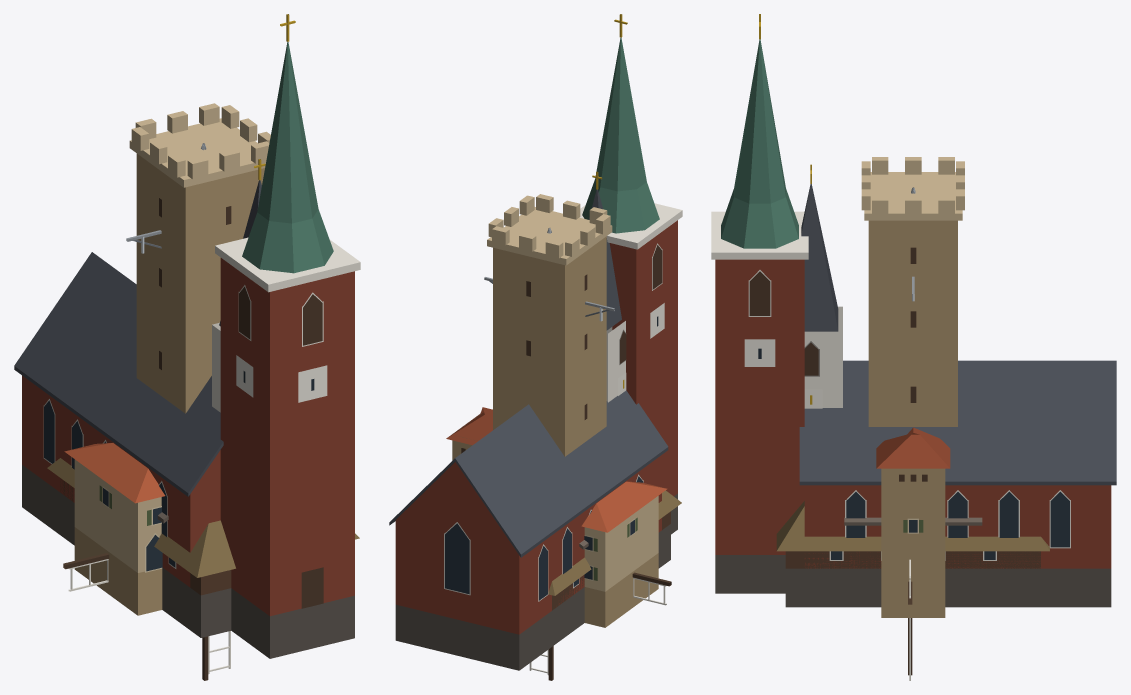
File: models.glb
The picture shows the model from 3 angles, left to right: view 1: azimuth 30°, elevation 25°; view 2: azimuth 150°, elevation 25°; view 3: azimuth 270°, elevation 25°; orthographic projection. The views are drawn at different scales.
Parts seen in each view (by area): view 1: nl_church, it_tower, it_farmhouse, nl_barn, ch_church, nl_mill_sails; view 2: nl_church, it_tower, it_farmhouse, nl_barn, ch_church, nl_mill_sails; view 3: nl_church, it_tower, nl_barn, it_farmhouse, ch_church, ch_chalet.
Boxes of the visible parts, x1,y1,x2,y2 form: nl_church: [14, 14, 360, 658]; it_tower: [129, 103, 270, 413]; it_farmhouse: [64, 443, 165, 615]; nl_barn: [47, 458, 359, 637]; ch_church: [212, 159, 265, 412]; nl_mill_sails: [63, 553, 230, 680]; nl_church: [389, 14, 682, 670]; it_tower: [487, 194, 612, 456]; it_farmhouse: [446, 407, 667, 627]; nl_barn: [548, 490, 681, 646]; ch_church: [589, 171, 626, 402]; nl_mill_sails: [529, 572, 671, 680]; nl_church: [711, 14, 1116, 607]; it_tower: [861, 157, 964, 426]; nl_barn: [776, 501, 1049, 607]; it_farmhouse: [876, 427, 950, 617]; ch_church: [801, 164, 842, 408]; ch_chalet: [844, 517, 982, 525].
Bounding box in the file's own units: 23.2 × 57 × 31.7.
